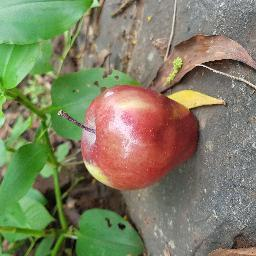Good_apple: (81, 85, 199, 189)
